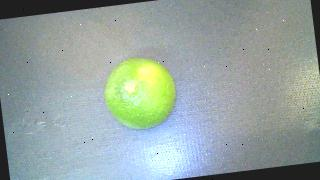EXPORTACION: (100, 53, 179, 133)
